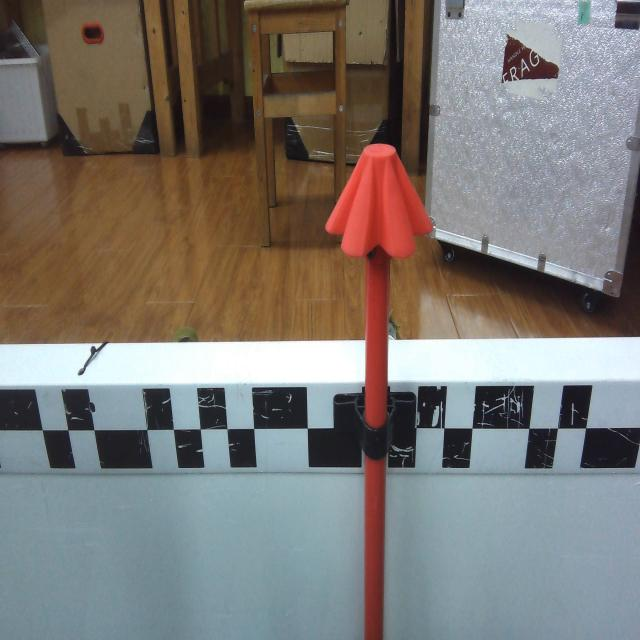zred-Stake-Head: (325, 143, 433, 259)
